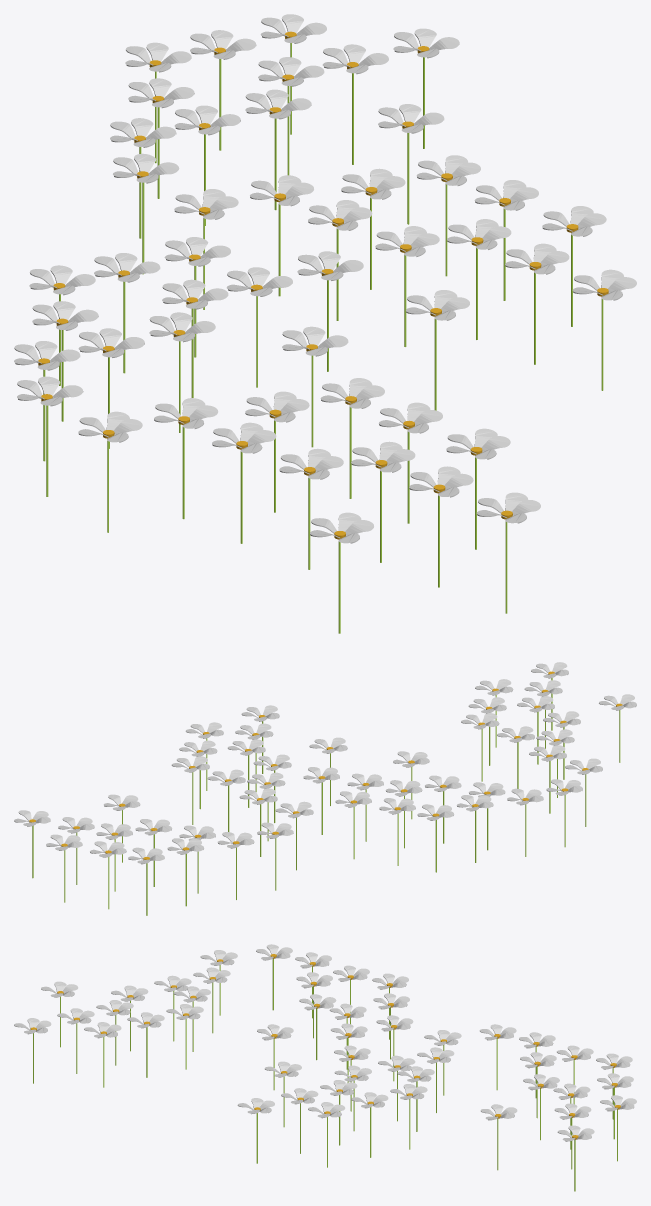
3 views of the same model, one above another, from view 1: azimuth 30°, elevation 25°; view 2: azimuth 150°, elevation 25°; view 3: azimuth 270°, elevation 25° (orthographic). The views are drawn at different scales.
Parts seen in each view (by area): view 1: Circle.020, Circle.018, Circle.015, Circle.040, Circle.048, Circle.017, Circle.041, Circle.014, Circle.021, Circle.037, Circle.042, Circle.023 (+36 smaller); view 2: Circle.022, Circle.042, Circle.006, Circle.039, Circle.011, Circle.015, Circle.003, Circle.008, Circle.012, Circle.016, Circle.029, Circle.031 (+34 smaller); view 3: Circle.015, Circle.018, Circle.016, Circle.021, Circle.043, Circle.048, Circle.045, Circle.047, Circle.020, Circle.037, Circle.039, Circle.041 (+11 smaller).
Boxes of the visible parts, x1,y1,x2,y2 form: Circle.020: (245, 89, 311, 119); Circle.018: (110, 118, 176, 147); Circle.015: (190, 30, 256, 59); Circle.040: (164, 237, 230, 266); Circle.048: (282, 326, 348, 356); Circle.017: (113, 153, 178, 183); Circle.041: (17, 376, 83, 406); Circle.014: (125, 42, 191, 72); Circle.021: (258, 57, 324, 86); Circle.037: (32, 301, 98, 330); Circle.042: (14, 341, 80, 370); Circle.023: (393, 28, 459, 58); Circle.022: (58, 817, 94, 833); Circle.042: (507, 788, 543, 805); Circle.006: (239, 788, 277, 804); Circle.039: (379, 798, 415, 814); Circle.011: (241, 705, 279, 721); Circle.015: (90, 841, 126, 857); Circle.003: (185, 722, 223, 738); Circle.008: (253, 754, 291, 770); Circle.012: (309, 737, 347, 753); Circle.016: (46, 834, 82, 850); Circle.029: (565, 758, 602, 774); Circle.031: (536, 729, 574, 745); Circle.015: (597, 1073, 633, 1089); Circle.018: (519, 1032, 555, 1048); Circle.016: (600, 1095, 636, 1111); Circle.021: (553, 1083, 590, 1099); Circle.043: (296, 972, 332, 988); Circle.048: (257, 1024, 293, 1040); Circle.045: (329, 1003, 366, 1019); Circle.047: (334, 1045, 370, 1061); Circle.020: (523, 1074, 559, 1090); Circle.037: (333, 965, 369, 981); Circle.039: (373, 993, 409, 1009); Circle.041: (256, 944, 292, 960).
Bounding box in the file's own units: 15.14 × 2.67 × 20.96.
